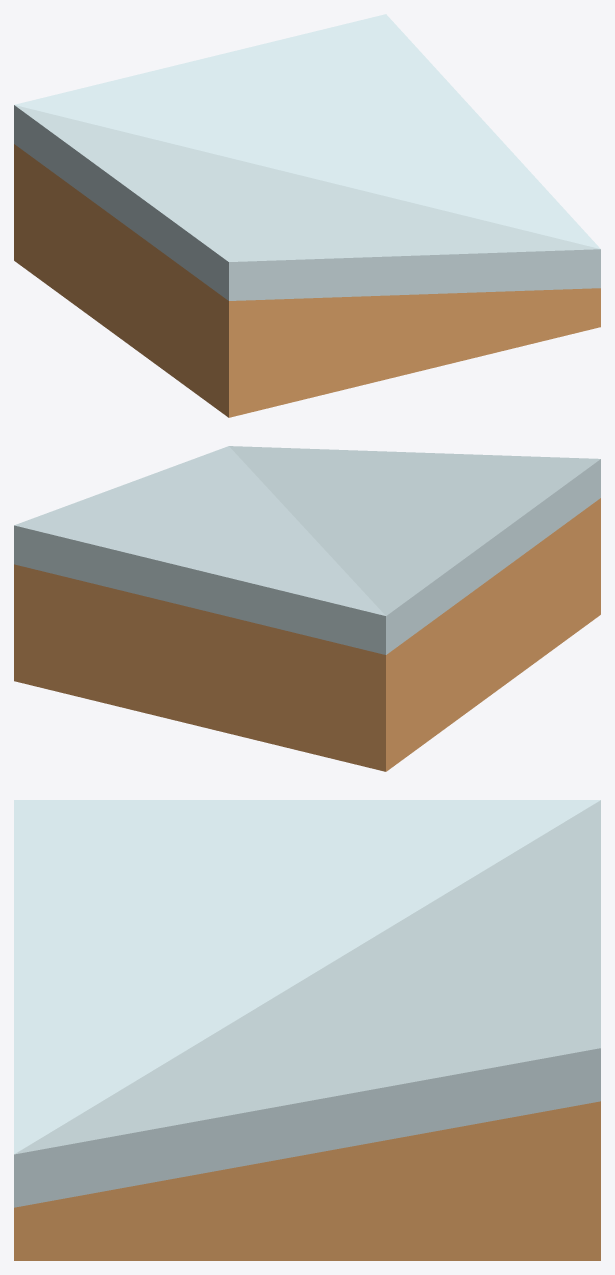
File: snow_tile_cornerInner.dae
The picture shows the model from 3 angles, top to bottom: view 1: azimuth 30°, elevation 25°; view 2: azimuth 150°, elevation 25°; view 3: azimuth 270°, elevation 25°; orthographic projection. The views are drawn at different scales.
Parts seen in each view (by area): view 1: snow_tile_cornerInner; view 2: snow_tile_cornerInner; view 3: snow_tile_cornerInner.
Part boxes in pixels (x1,y1,x2,y2): snow_tile_cornerInner: (14, 14, 600, 417); snow_tile_cornerInner: (14, 446, 600, 771); snow_tile_cornerInner: (14, 800, 600, 1260).
Bounding box in the file's own units: 1 × 0.4 × 1.
